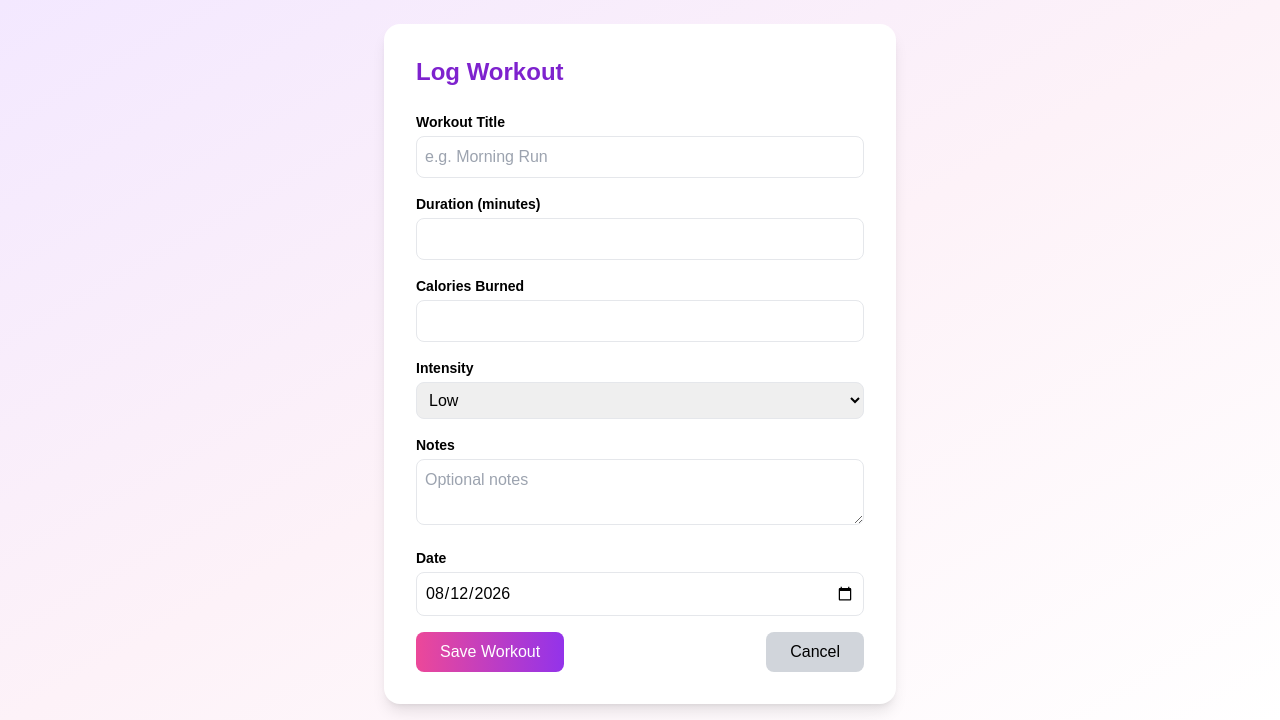
Scenario: shows backend-down message on failure
The image size is (1280, 720).
In the field with placeholder "e.g. Morning Run": (640, 157) [416,136,864,178], type "Morning Run"
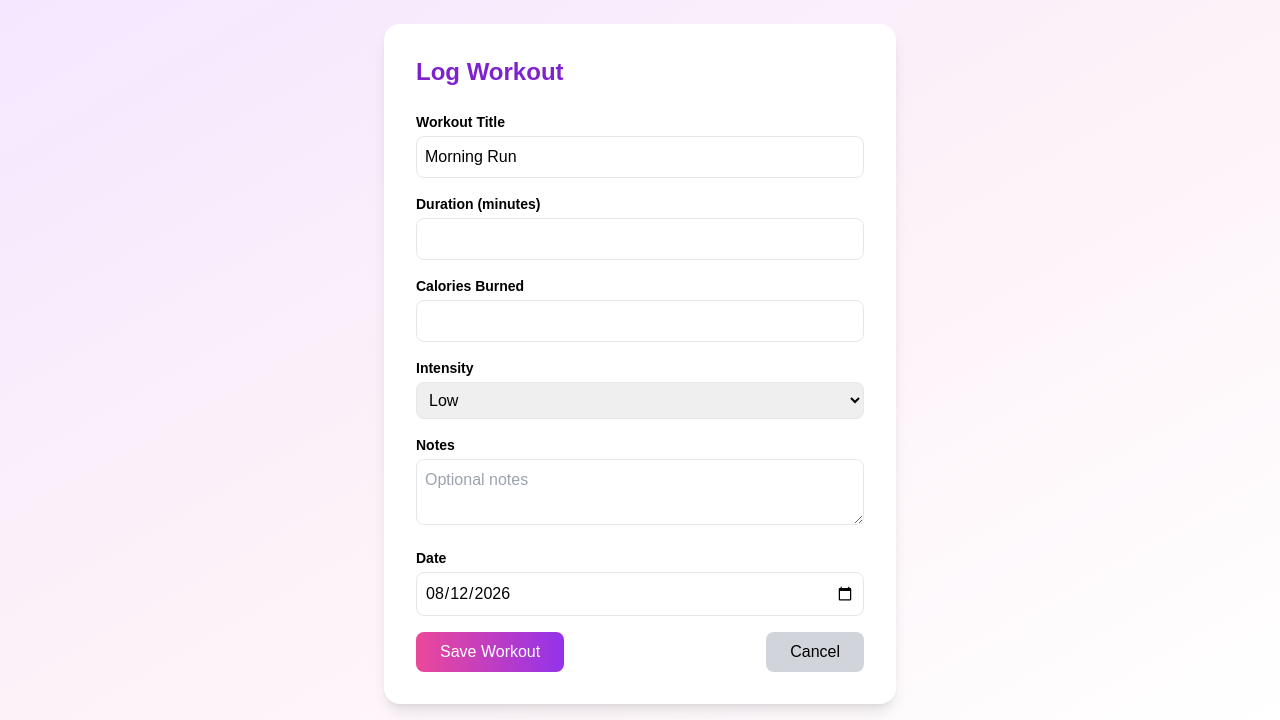
In the number field labelled "Duration (minutes)": (640, 239) [416,218,864,260], type "30"
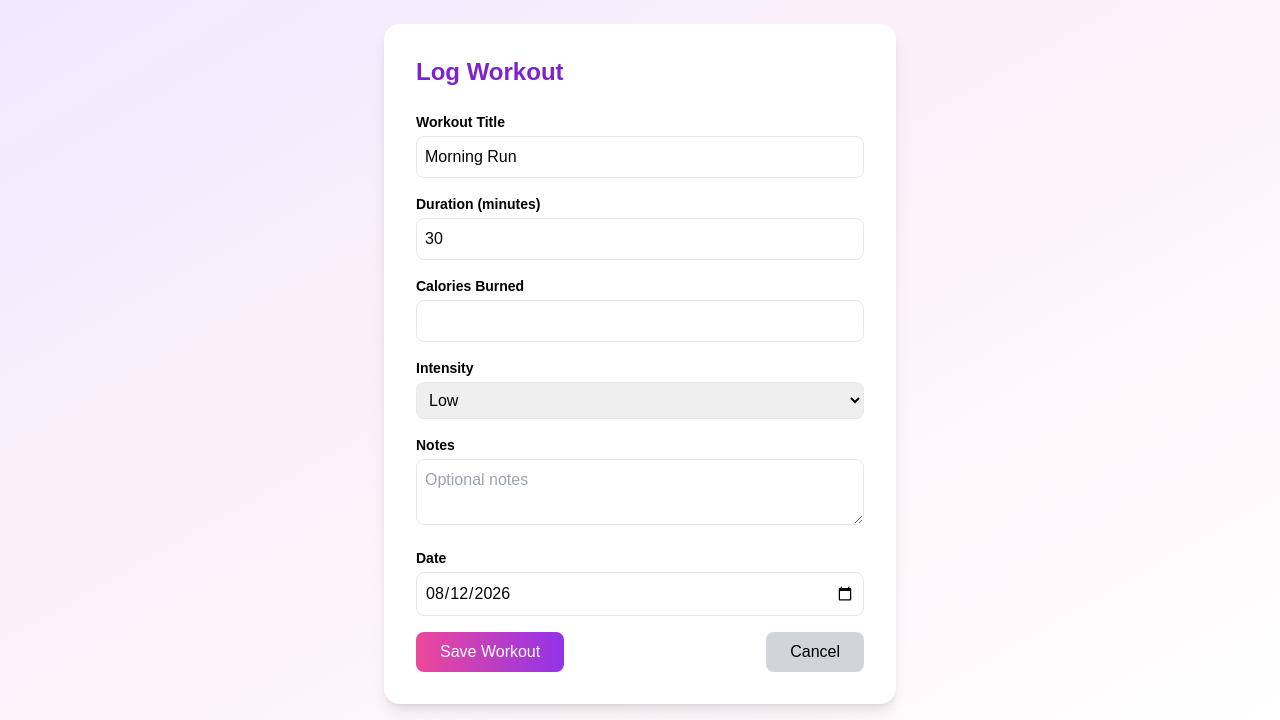
In the number field labelled "Calories Burned": (640, 321) [416,300,864,342], type "300"
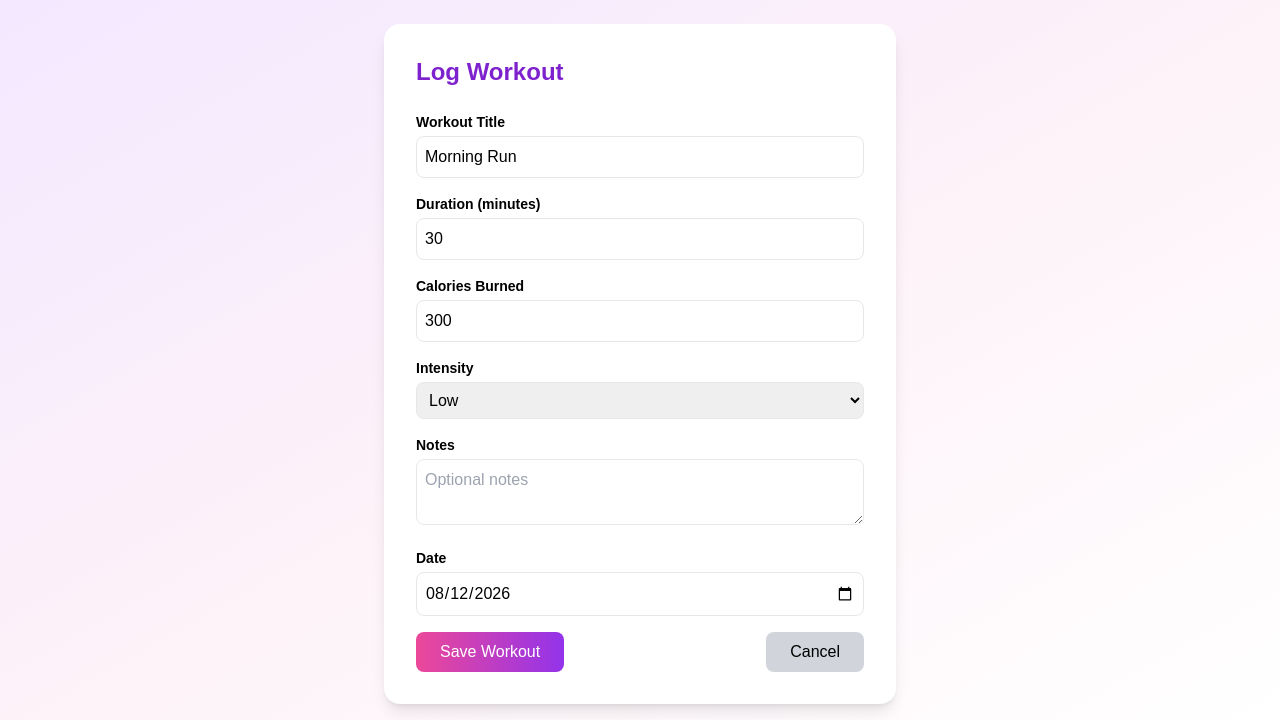
Click the button "Save Workout": (490, 652) [416,632,564,672]
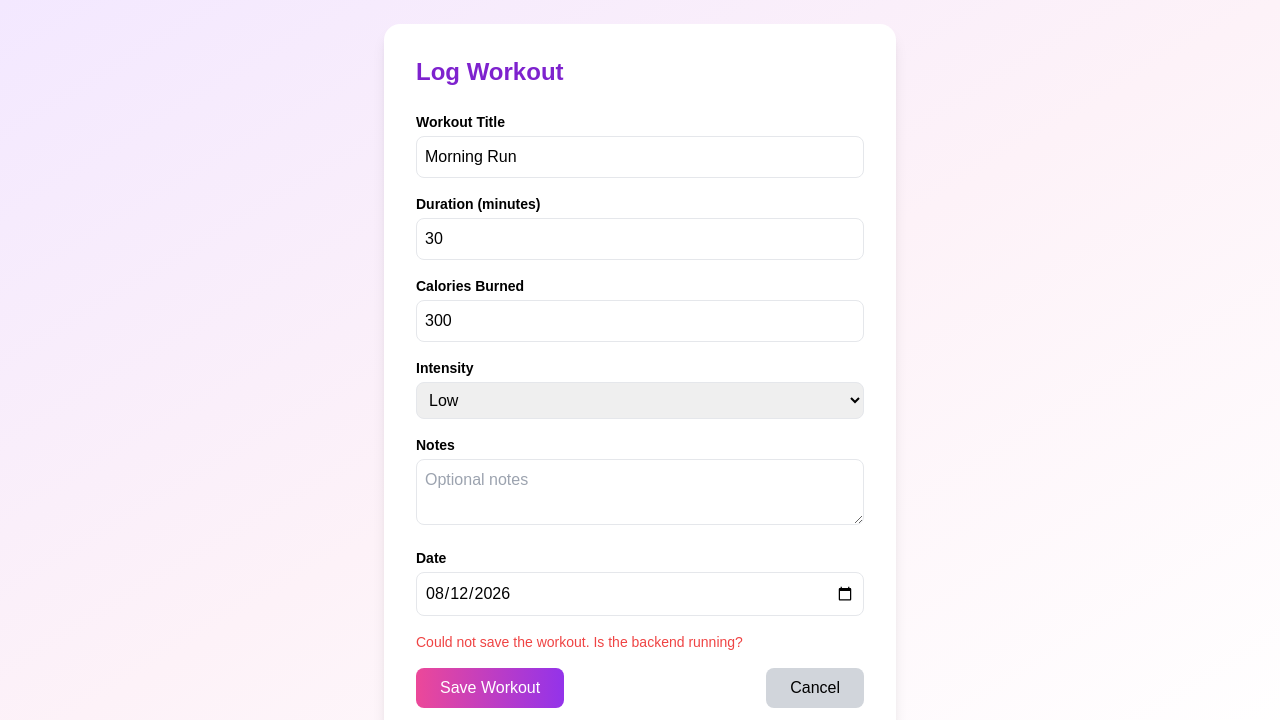
Now the text "Could not save the workout. Is the backend running?" is shown, box [416,634,743,650]
